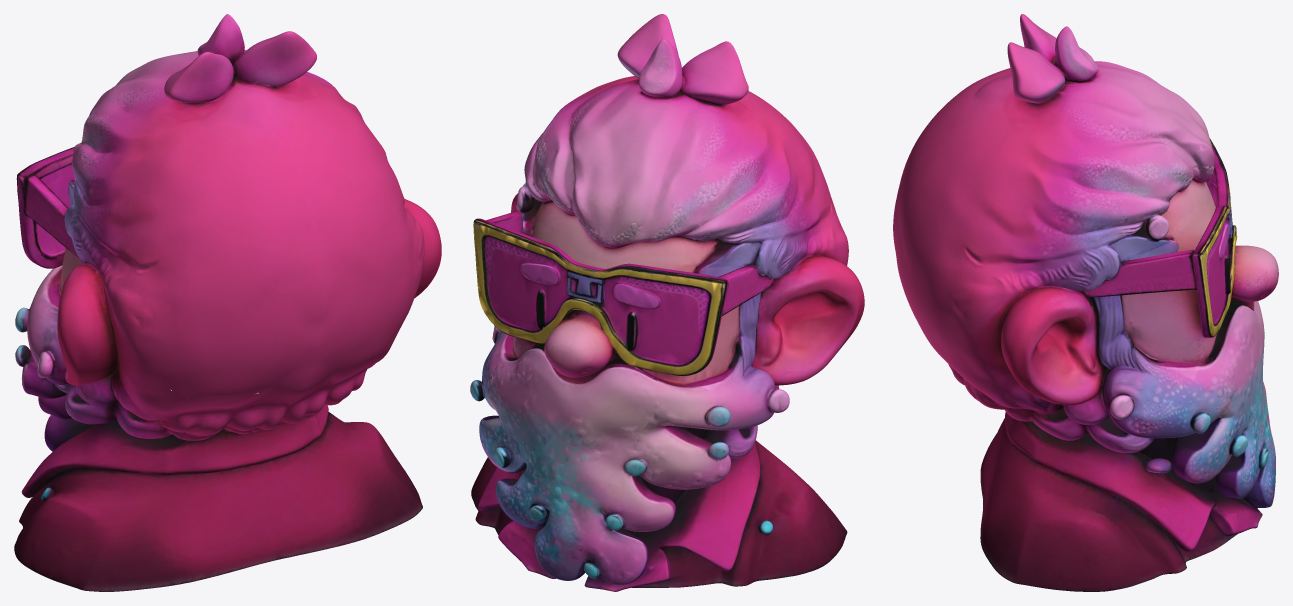
The model's file is genesis-compressed.glb.
3 views of the same model, side by side, from view 1: azimuth 30°, elevation 25°; view 2: azimuth 150°, elevation 25°; view 3: azimuth 270°, elevation 25° (orthographic). The views are drawn at different scales.
Visible parts, largest first — view 1: tripo_node_839267ff-0424-465e-bae2-b9e205801d66; view 2: tripo_node_839267ff-0424-465e-bae2-b9e205801d66; view 3: tripo_node_839267ff-0424-465e-bae2-b9e205801d66.
Part boxes in pixels (x1=…): tripo_node_839267ff-0424-465e-bae2-b9e205801d66: x1=14, y1=14, x2=441, y2=591; tripo_node_839267ff-0424-465e-bae2-b9e205801d66: x1=470, y1=14, x2=864, y2=591; tripo_node_839267ff-0424-465e-bae2-b9e205801d66: x1=893, y1=14, x2=1278, y2=591.
Size of the model in its own units: 0.7554 by 0.9797 by 0.7122.
Materials: 1 (1 with a texture image).
